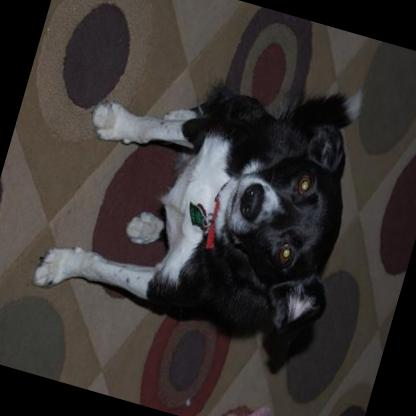Border_collie: (25, 17, 386, 382)
